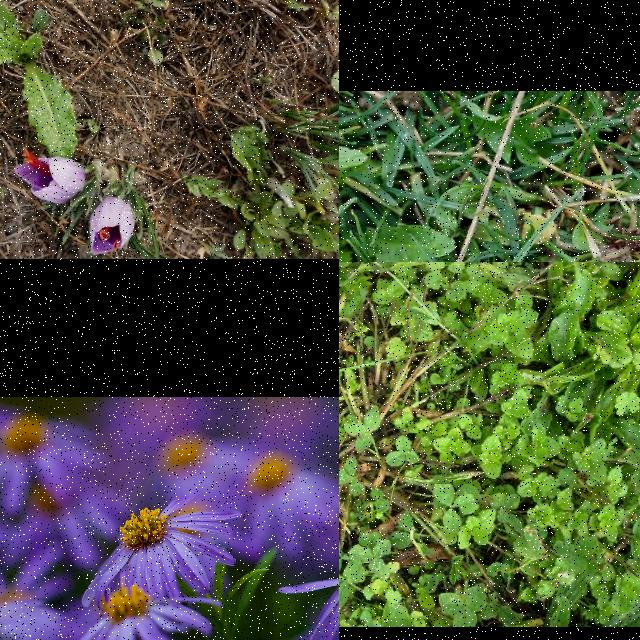flower: (13, 147, 87, 206), (90, 196, 136, 256)
